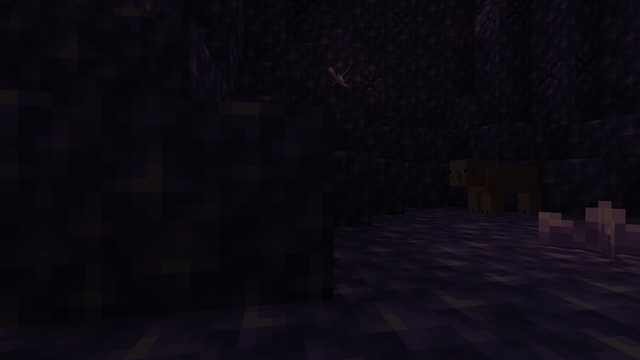cochons: (462, 163, 542, 214)
